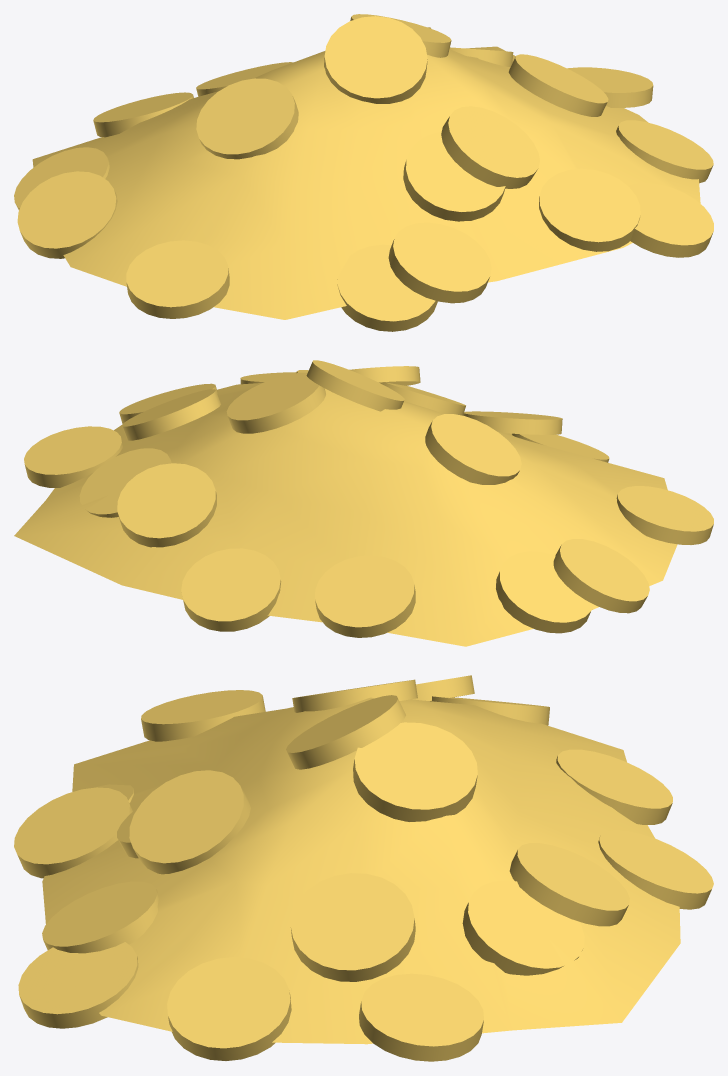
The model's file is SM_FW01_CoinPile_01.fbx.
The picture shows the model from 3 angles, top to bottom: view 1: azimuth 30°, elevation 25°; view 2: azimuth 150°, elevation 25°; view 3: azimuth 270°, elevation 25°; orthographic projection. The views are drawn at different scales.
Parts seen in each view (by area): view 1: SM_FW01_CoinPile_01_LOD0; view 2: SM_FW01_CoinPile_01_LOD0; view 3: SM_FW01_CoinPile_01_LOD0.
Part boxes in pixels (x1,y1,x2,y2): SM_FW01_CoinPile_01_LOD0: (14,14,713,331); SM_FW01_CoinPile_01_LOD0: (14,360,713,646); SM_FW01_CoinPile_01_LOD0: (14,675,713,1061).
Size of what is drawn, in the model's own units: 0.7623 by 0.2038 by 0.6138.
